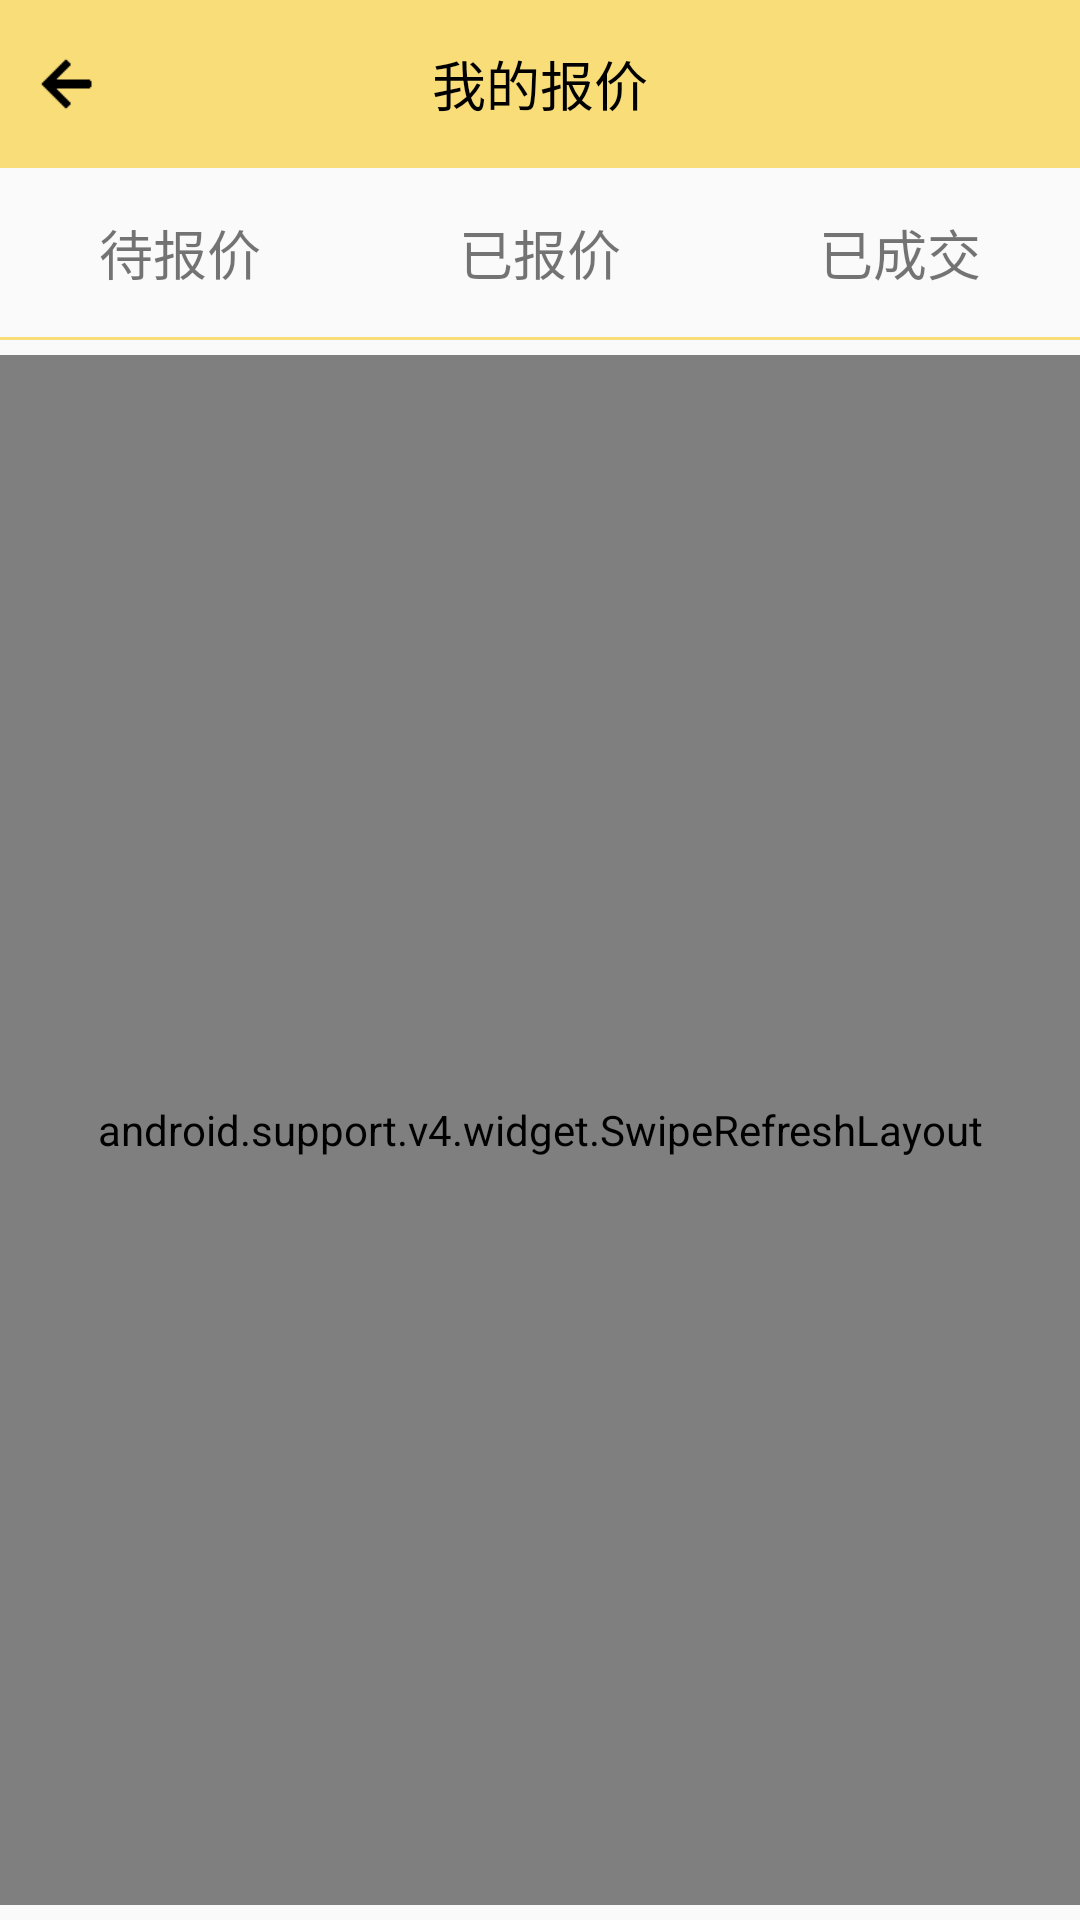

Where to tap for icons on this 1080 × 1920 app screen, as (x=x, y=y):
back: (x=66, y=84)
